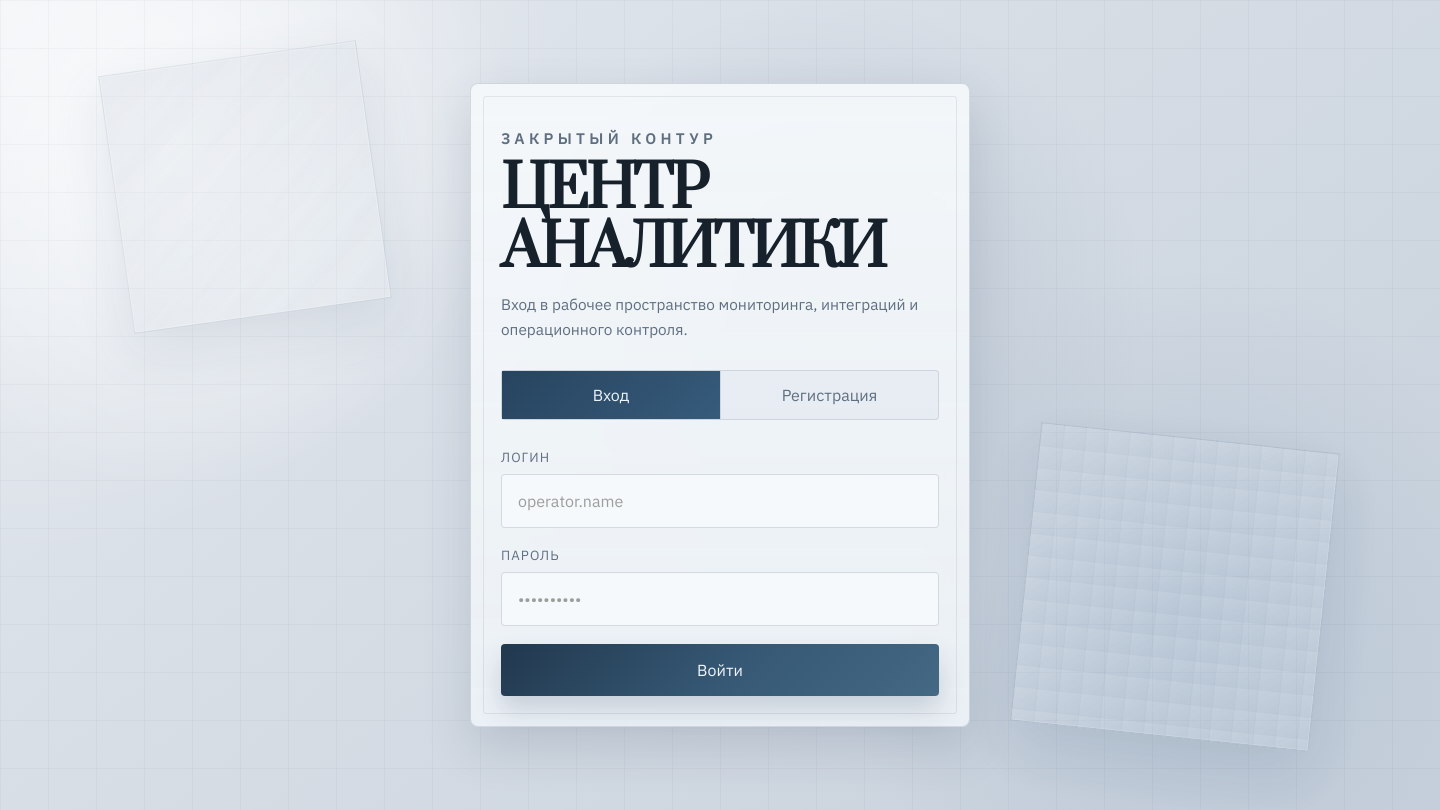
AuthPage › switches between login and registration modes
Click the tab "Регистрация": (829, 395) [720,371,938,419]
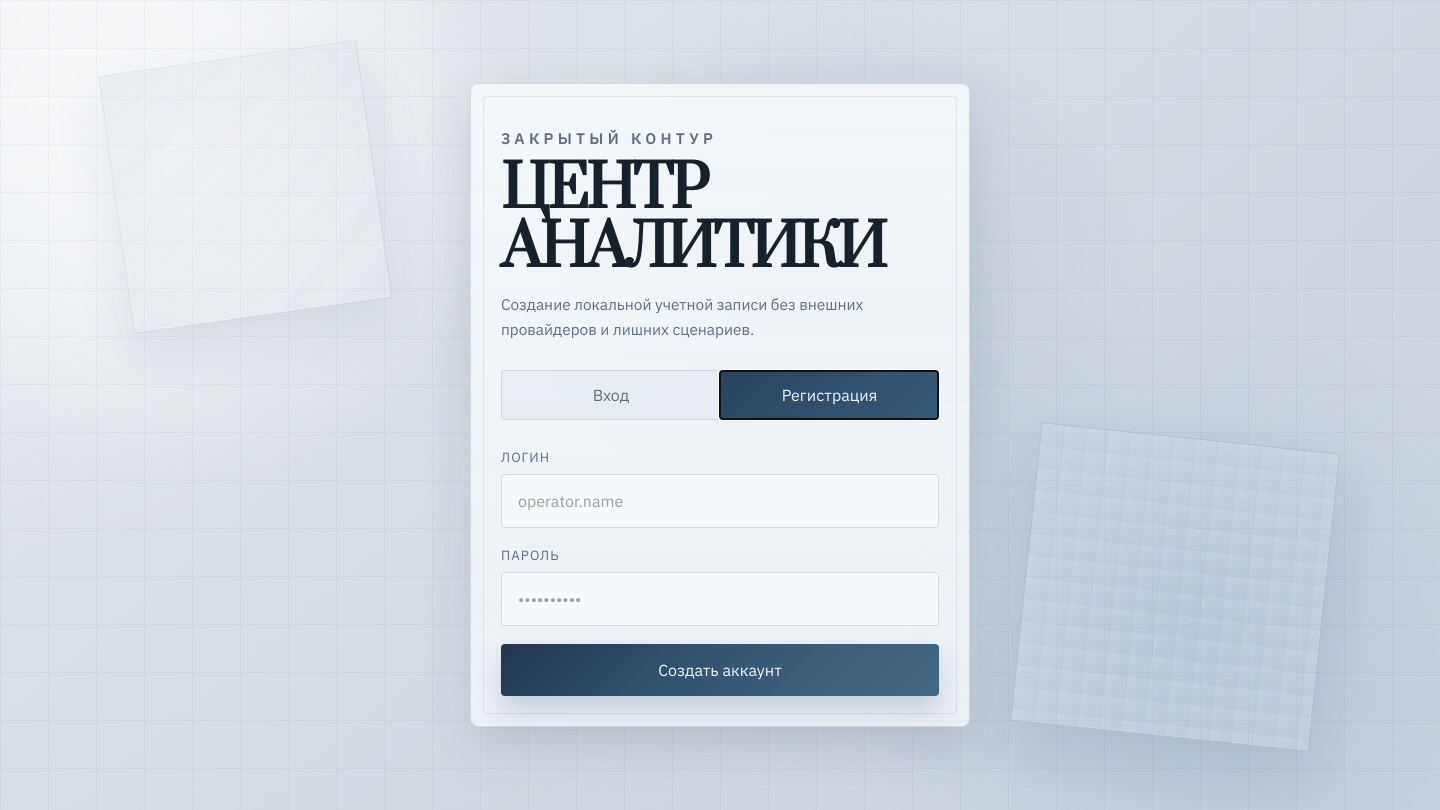
Check: the button "Создать аккаунт" is shown, box [501,644,939,696]
